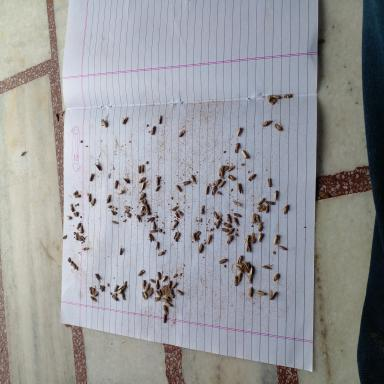pbw: (273, 120, 283, 130), (273, 234, 280, 248), (123, 171, 130, 184), (261, 263, 274, 270), (234, 140, 240, 155), (224, 228, 235, 236), (100, 116, 107, 128), (207, 232, 214, 244), (121, 116, 128, 128), (149, 124, 157, 134), (250, 212, 256, 225), (257, 232, 263, 245), (227, 234, 234, 245), (236, 272, 242, 284), (260, 120, 272, 126), (146, 233, 154, 242), (270, 288, 276, 300), (141, 180, 148, 190), (282, 204, 289, 214), (256, 289, 266, 296), (250, 230, 255, 244), (148, 228, 158, 235), (244, 260, 251, 270), (218, 258, 228, 265), (226, 214, 232, 225), (237, 255, 243, 266), (211, 186, 216, 199), (236, 182, 241, 195), (235, 264, 243, 272), (234, 199, 242, 207), (190, 175, 197, 184), (213, 210, 219, 220), (247, 286, 253, 296), (178, 128, 184, 138), (265, 200, 275, 206), (246, 273, 252, 283), (95, 158, 100, 170), (234, 217, 240, 227), (258, 221, 264, 231), (283, 93, 295, 98), (94, 273, 101, 281), (165, 294, 172, 302), (153, 295, 161, 302), (273, 272, 280, 280), (228, 174, 236, 181), (248, 174, 256, 181), (161, 296, 169, 303), (234, 272, 238, 286), (227, 165, 235, 172), (215, 219, 220, 230), (123, 281, 129, 290), (272, 94, 281, 100), (221, 227, 230, 233), (136, 214, 142, 223), (154, 242, 160, 251), (139, 192, 145, 201), (215, 178, 221, 187), (158, 111, 162, 124), (274, 190, 278, 203), (242, 149, 247, 159), (278, 245, 288, 250), (198, 243, 203, 253), (244, 234, 249, 244), (148, 287, 153, 297), (174, 230, 179, 240), (218, 180, 225, 187), (78, 235, 85, 242), (258, 206, 265, 213), (90, 296, 97, 303), (175, 184, 181, 192), (158, 251, 166, 257), (164, 301, 172, 307), (172, 220, 178, 228), (162, 304, 168, 312), (140, 205, 146, 213), (146, 216, 154, 222), (112, 294, 118, 302), (234, 212, 242, 218), (242, 264, 248, 272), (139, 175, 145, 183), (90, 170, 94, 182), (155, 289, 161, 297), (223, 222, 231, 228), (70, 201, 74, 213), (113, 285, 119, 293), (192, 232, 196, 244), (156, 271, 161, 280), (237, 127, 242, 136), (200, 205, 205, 214), (156, 175, 160, 186), (145, 204, 149, 215), (140, 209, 146, 216), (256, 204, 263, 210), (171, 282, 178, 288), (138, 269, 144, 276), (92, 286, 96, 296), (265, 203, 269, 213), (268, 94, 272, 104), (145, 283, 150, 291), (163, 313, 167, 323), (141, 292, 146, 300), (116, 285, 124, 290), (267, 177, 271, 187), (91, 198, 96, 206), (76, 222, 81, 230), (183, 180, 191, 185), (119, 245, 123, 255), (137, 164, 141, 174), (246, 243, 250, 253), (249, 266, 253, 276), (116, 288, 122, 294), (258, 198, 264, 204), (142, 280, 146, 289), (256, 214, 260, 223), (114, 180, 118, 189), (160, 275, 166, 281), (172, 205, 178, 211), (107, 194, 111, 203), (74, 232, 78, 241), (154, 185, 160, 191), (176, 290, 182, 296), (121, 291, 125, 300), (178, 210, 184, 216), (140, 164, 144, 173), (88, 193, 92, 202), (168, 280, 172, 289), (80, 225, 84, 233), (144, 291, 148, 299), (156, 279, 159, 289), (94, 290, 99, 296), (89, 286, 92, 296), (73, 190, 79, 195), (172, 273, 178, 278), (107, 205, 114, 209), (65, 215, 72, 219), (111, 220, 118, 224), (152, 220, 155, 229), (206, 186, 209, 195), (150, 278, 155, 283), (118, 189, 122, 195), (124, 205, 130, 209), (174, 212, 178, 218), (82, 247, 89, 250), (74, 195, 80, 197)
